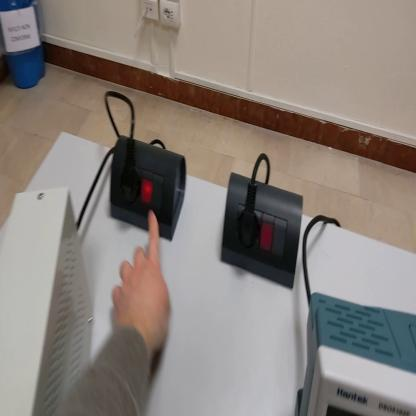hand: (111, 211, 175, 351)
oscilloscope: (295, 293, 416, 414)
power supply: (1, 187, 94, 415)
socket: (221, 170, 303, 292), (107, 135, 185, 243)
